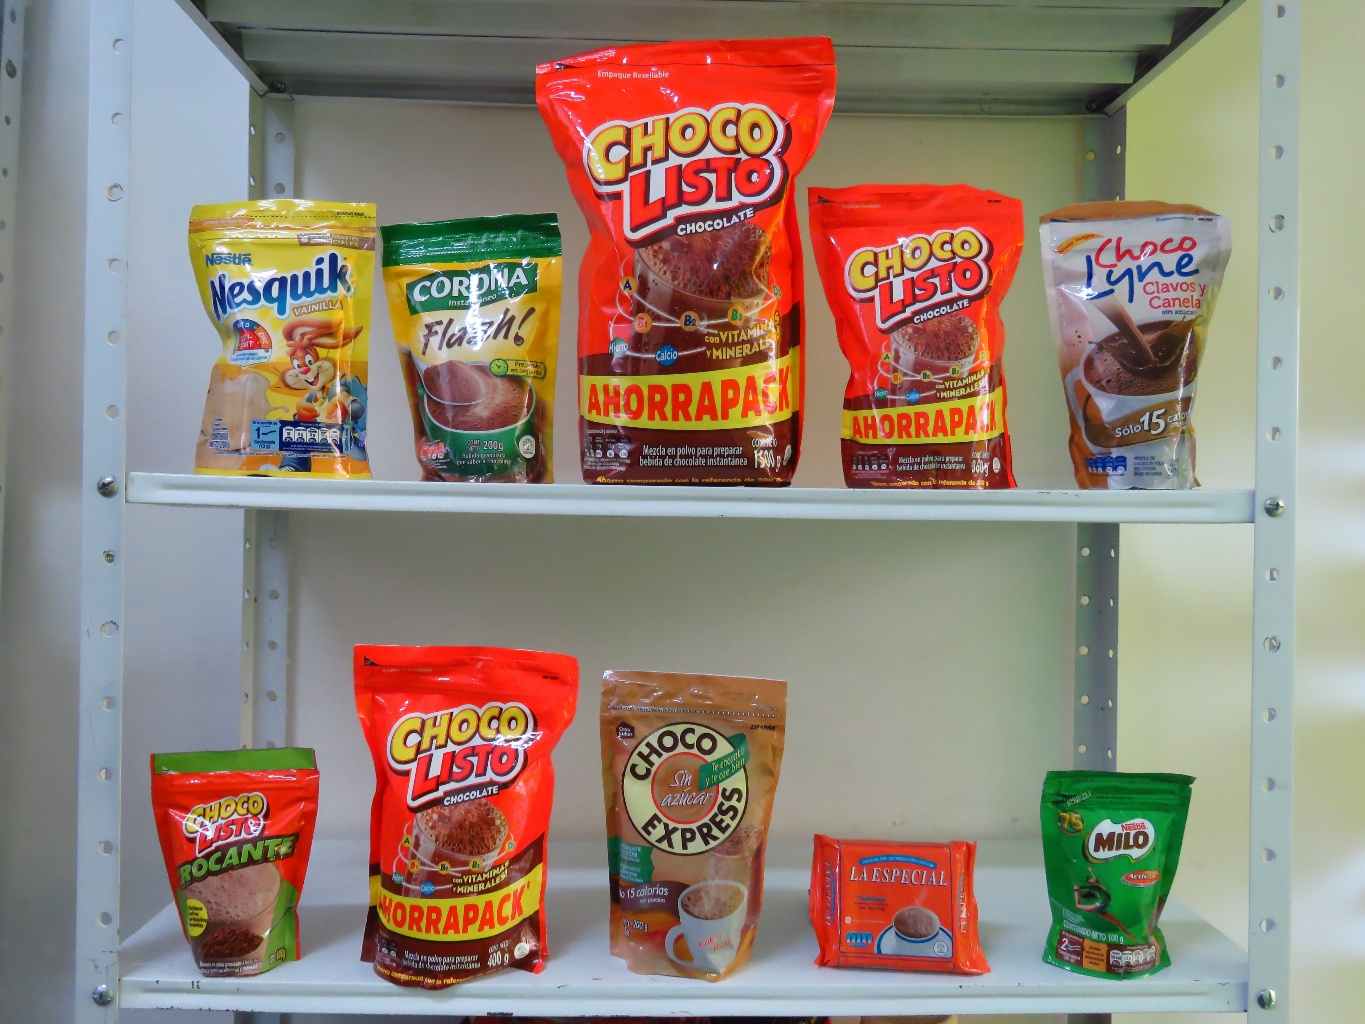COL0170102DYP10000: (148, 750, 318, 979)
COL0170103DYP1,500: (531, 39, 835, 482)
COL0170103DYP36000: (806, 182, 1030, 488)
COL0170103DYP40000: (349, 642, 575, 987)
COL0170203DYP10000: (1042, 769, 1195, 979)
COL0170306DYP20000: (187, 196, 375, 479)
